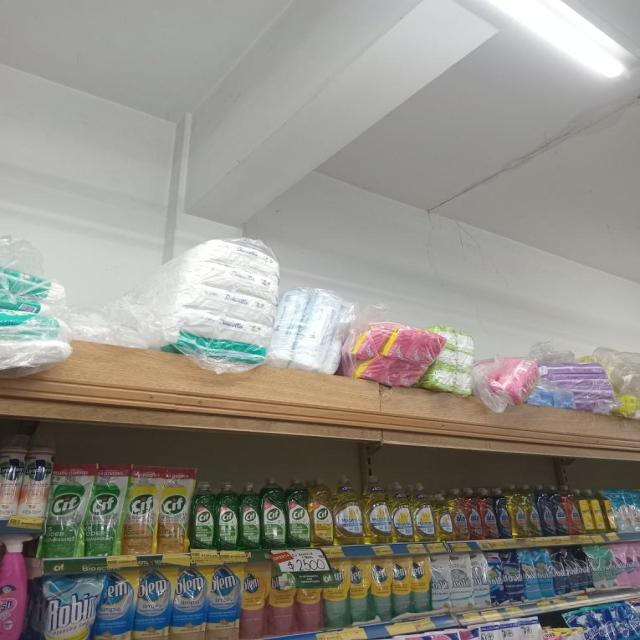ala_conc_amarillo: (511, 484, 527, 538), (452, 487, 467, 541), (567, 485, 581, 535), (527, 484, 540, 537)
ala_conc_azul: (496, 486, 510, 539), (554, 485, 566, 536), (541, 485, 552, 536)
ala_conc_rojo: (481, 487, 496, 539), (467, 487, 481, 540)
cif_conc_bot_amarilla: (310, 476, 333, 547)
cif_conc_botella_verde: (261, 478, 286, 549), (191, 482, 215, 550), (287, 477, 309, 548), (216, 482, 238, 550), (239, 481, 260, 550)
cif_conc_sachet_amarillo: (123, 464, 157, 555), (158, 466, 188, 554)
cif_conc_sachet_verde: (45, 462, 83, 559), (85, 463, 121, 557)
magistral_con_amarillo: (333, 475, 363, 545), (364, 476, 391, 544), (412, 482, 434, 542), (392, 480, 412, 542), (435, 486, 452, 542)
